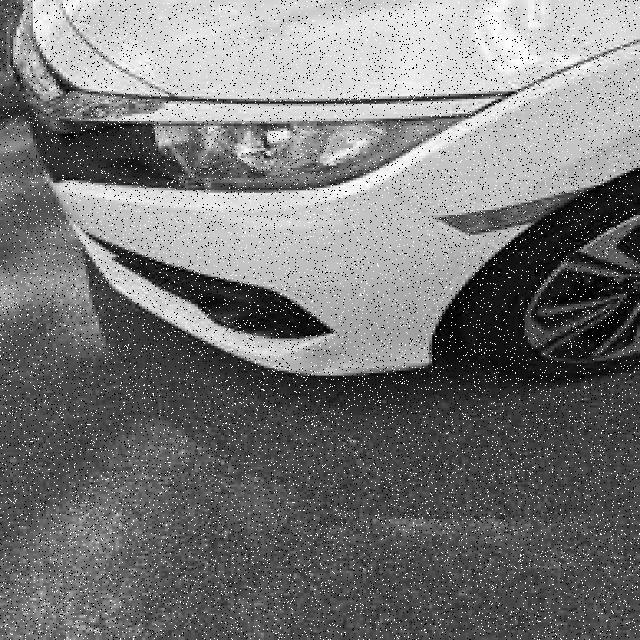front-bumper-dent: (53, 190, 495, 380)
